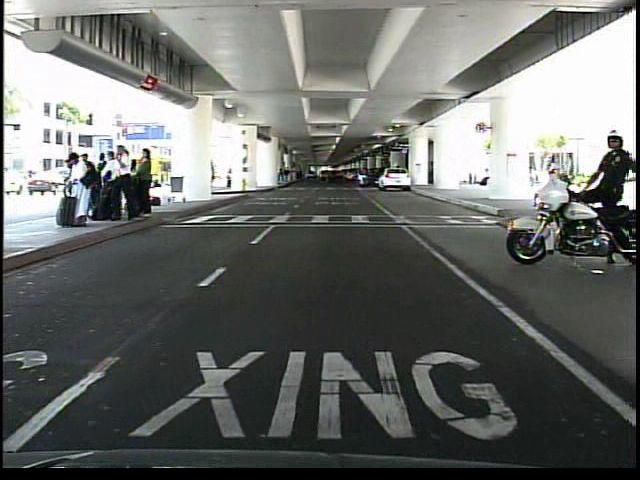person: (580, 128, 637, 267), (479, 161, 493, 193)
